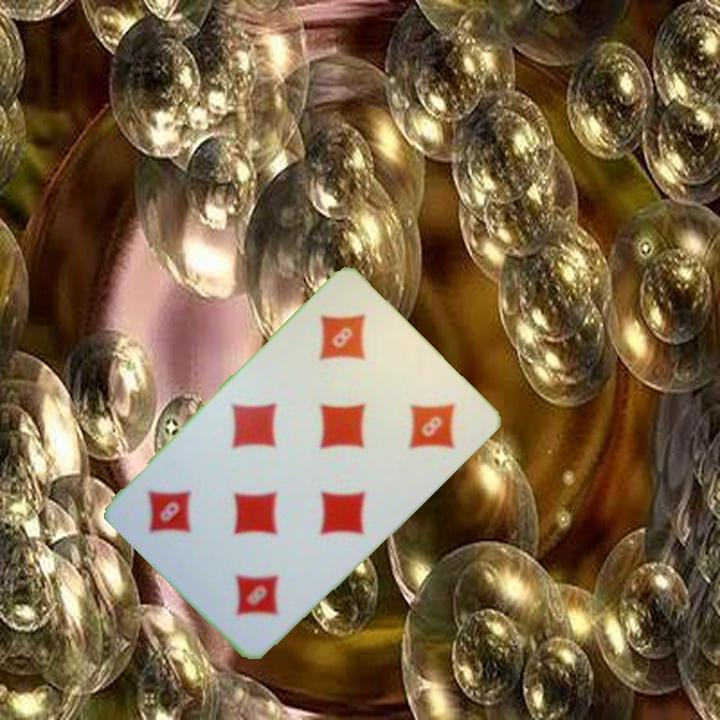d_8.png: (186, 517, 315, 646), (287, 284, 416, 413)
